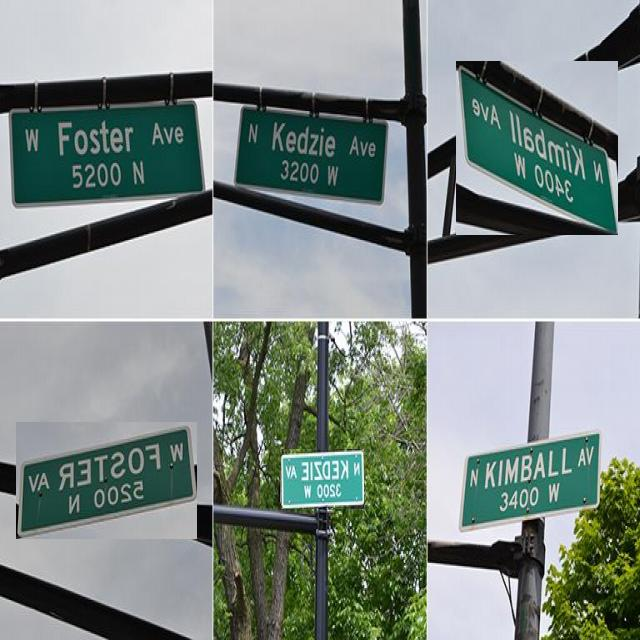street-signs: (456, 62, 618, 235), (8, 97, 206, 211), (16, 422, 197, 539), (233, 100, 390, 210), (459, 431, 603, 531), (281, 450, 364, 509)
